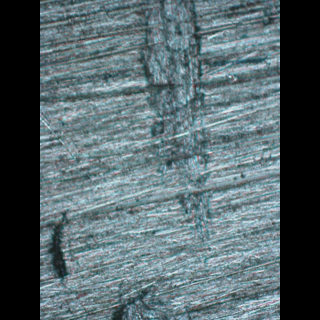d: (140, 0, 216, 239)
